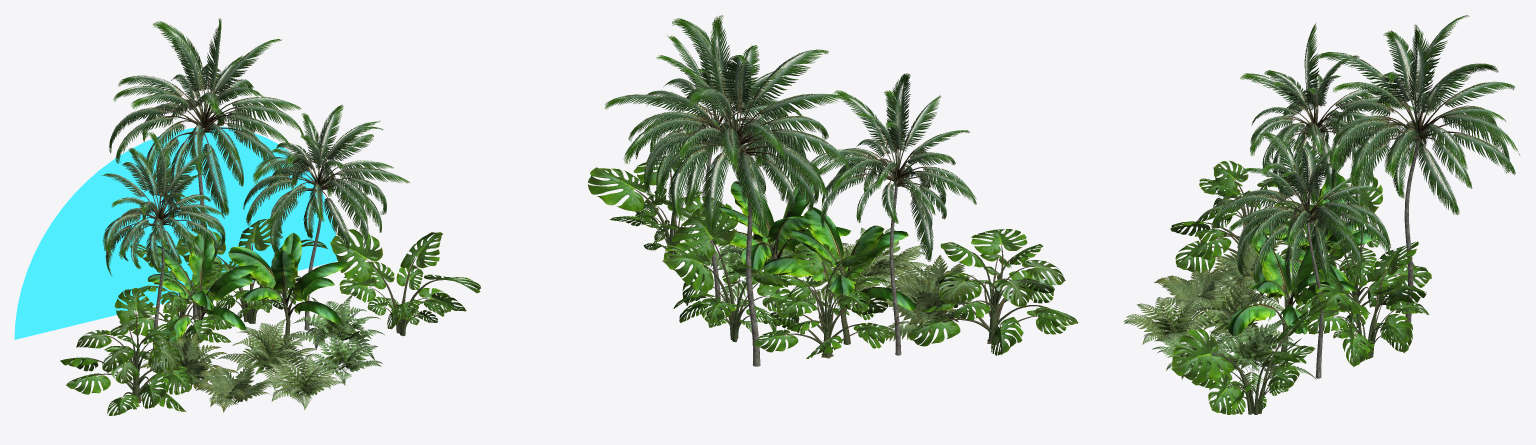
Rendered from tropical_plants_pack_m02p.glb.
The picture shows the model from 3 angles, left to right: view 1: azimuth 30°, elevation 25°; view 2: azimuth 150°, elevation 25°; view 3: azimuth 270°, elevation 25°; orthographic projection. The views are drawn at different scales.
Parts seen in each view (by area): view 1: Circle, SM_MZRa_Palm_B082, SM_MZRa_Palm_B081, SM_MZRa_Palm_B083, tree.006SM_MZRa_Monstera_B071, tree.002SM_MZRa_Monstera_B074, SM_MZRa_Banana_B092, SM_MZRa_Banana_B091, tree.007SM_MZRa_Monstera_B072, SM_MZRa_Fern_B052, tree.003SM_MZRa_Monstera_B073, SM_MZRa_Fern_B053 (+4 smaller); view 2: SM_MZRa_Palm_B082, SM_MZRa_Palm_B083, tree.006SM_MZRa_Monstera_B071, tree.003SM_MZRa_Monstera_B073, tree.007SM_MZRa_Monstera_B072, SM_MZRa_Palm_B081, SM_MZRa_Banana_B091, tree.002SM_MZRa_Monstera_B074, SM_MZRa_Banana_B092, SM_MZRa_Fern_B051, SM_MZRa_Fern_B052, SM_MZRa_Fern_B053 (+2 smaller); view 3: SM_MZRa_Palm_B082, SM_MZRa_Palm_B081, SM_MZRa_Palm_B083, tree.002SM_MZRa_Monstera_B074, tree.003SM_MZRa_Monstera_B073, tree.006SM_MZRa_Monstera_B071, SM_MZRa_Banana_B092, tree.007SM_MZRa_Monstera_B072, SM_MZRa_Fern_B052, SM_MZRa_Fern_B053, SM_MZRa_Fern_B0522, SM_MZRa_Banana_B091 (+3 smaller).
Part boxes in pixels (bbox=[...]): Circle: bbox=[14, 127, 337, 339]; SM_MZRa_Palm_B082: bbox=[109, 18, 303, 319]; SM_MZRa_Palm_B081: bbox=[243, 105, 409, 330]; SM_MZRa_Palm_B083: bbox=[101, 132, 225, 365]; tree.006SM_MZRa_Monstera_B071: bbox=[60, 288, 197, 415]; tree.002SM_MZRa_Monstera_B074: bbox=[330, 229, 480, 335]; SM_MZRa_Banana_B092: bbox=[228, 232, 348, 348]; SM_MZRa_Banana_B091: bbox=[147, 232, 258, 344]; tree.007SM_MZRa_Monstera_B072: bbox=[119, 244, 234, 346]; SM_MZRa_Fern_B052: bbox=[216, 319, 316, 390]; tree.003SM_MZRa_Monstera_B073: bbox=[176, 218, 327, 323]; SM_MZRa_Fern_B053: bbox=[285, 294, 384, 360]; SM_MZRa_Palm_B082: bbox=[623, 15, 852, 366]; SM_MZRa_Palm_B083: bbox=[802, 73, 976, 355]; tree.006SM_MZRa_Monstera_B071: bbox=[908, 229, 1078, 355]; tree.003SM_MZRa_Monstera_B073: bbox=[662, 201, 794, 342]; tree.007SM_MZRa_Monstera_B072: bbox=[754, 243, 896, 358]; SM_MZRa_Palm_B081: bbox=[604, 28, 802, 309]; SM_MZRa_Banana_B091: bbox=[763, 207, 916, 344]; tree.002SM_MZRa_Monstera_B074: bbox=[588, 148, 730, 269]; SM_MZRa_Banana_B092: bbox=[713, 165, 850, 307]; SM_MZRa_Fern_B051: bbox=[875, 270, 982, 341]; SM_MZRa_Fern_B052: bbox=[794, 244, 902, 307]; SM_MZRa_Fern_B053: bbox=[703, 224, 805, 310]; SM_MZRa_Palm_B082: bbox=[1314, 15, 1520, 338]; SM_MZRa_Palm_B081: bbox=[1211, 132, 1390, 378]; SM_MZRa_Palm_B083: bbox=[1240, 23, 1414, 255]; tree.002SM_MZRa_Monstera_B074: bbox=[1171, 300, 1327, 414]; tree.003SM_MZRa_Monstera_B073: bbox=[1307, 241, 1428, 367]; tree.006SM_MZRa_Monstera_B071: bbox=[1170, 160, 1317, 286]; SM_MZRa_Banana_B092: bbox=[1228, 221, 1356, 352]; tree.007SM_MZRa_Monstera_B072: bbox=[1295, 173, 1431, 332]; SM_MZRa_Fern_B052: bbox=[1183, 279, 1293, 346]; SM_MZRa_Fern_B053: bbox=[1199, 319, 1316, 393]; SM_MZRa_Fern_B0522: bbox=[1123, 297, 1215, 349]; SM_MZRa_Banana_B091: bbox=[1254, 173, 1377, 316].
Size of the model in its own units: 10.36 by 7.27 by 7.67.
11 materials, 10 textured.
